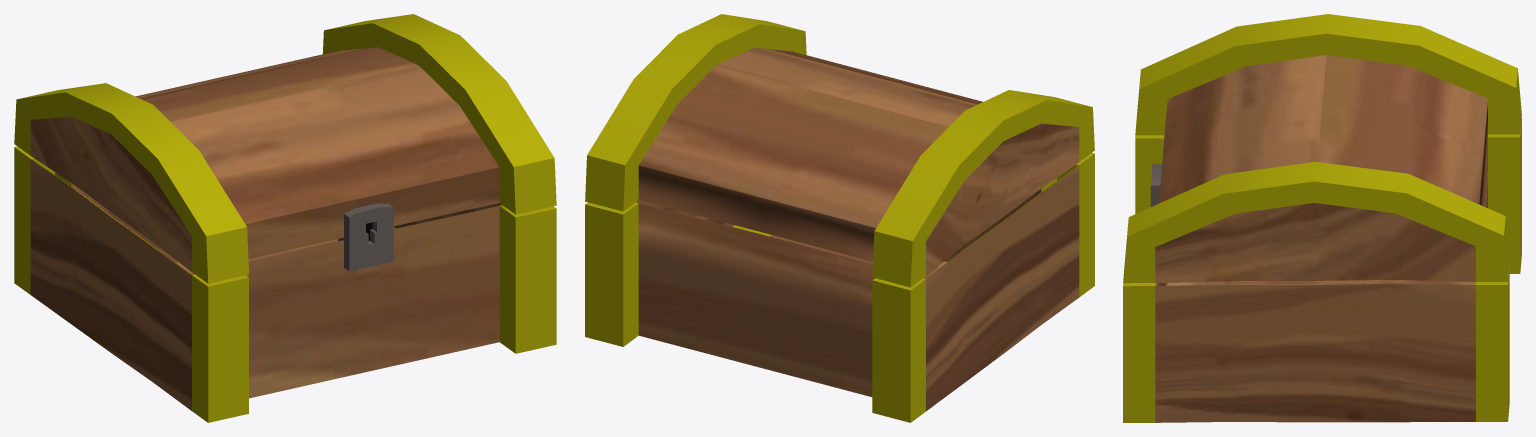
File: cofreanim.fbx
3 renders of one model, left to right at view 1: azimuth 30°, elevation 25°; view 2: azimuth 150°, elevation 25°; view 3: azimuth 270°, elevation 25°, orthographic. The views are drawn at different scales.
Parts seen in each view (by area): view 1: Cofre animation.001; view 2: Cofre animation.001; view 3: Cofre animation.001.
Boxes of the visible parts, x1,y1,x2,y2 form: Cofre animation.001: [14, 14, 556, 422]; Cofre animation.001: [585, 14, 1094, 422]; Cofre animation.001: [1123, 14, 1521, 422].
Size of the model in its own units: 1.5 by 1 by 1.5.
Materials: 4 (1 with a texture image).
